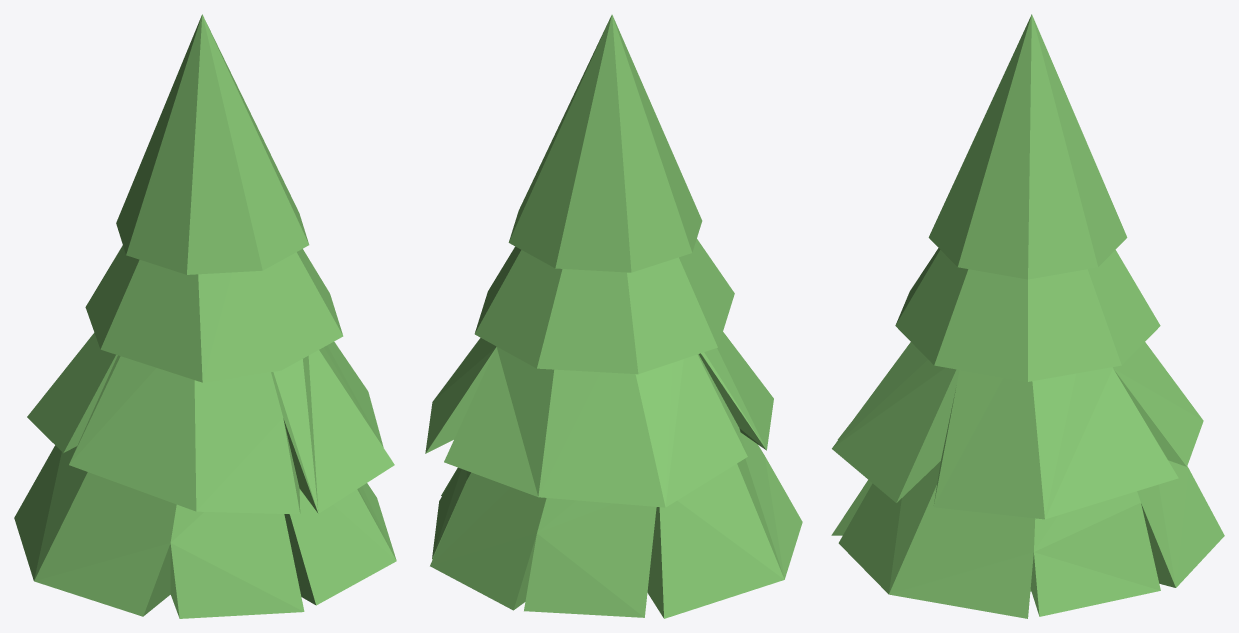
File: tree.fbx
3 views of the same model, side by side, from view 1: azimuth 30°, elevation 25°; view 2: azimuth 150°, elevation 25°; view 3: azimuth 270°, elevation 25° (orthographic).
Parts seen in each view (by area): view 1: pCylinder1; view 2: pCylinder1; view 3: pCylinder1.
Boxes of the visible parts, x1,y1,x2,y2 form: pCylinder1: (14, 14, 396, 618); pCylinder1: (425, 14, 802, 618); pCylinder1: (831, 14, 1224, 618).
Bounding box in the file's own units: 3.75 × 5.97 × 3.75.
